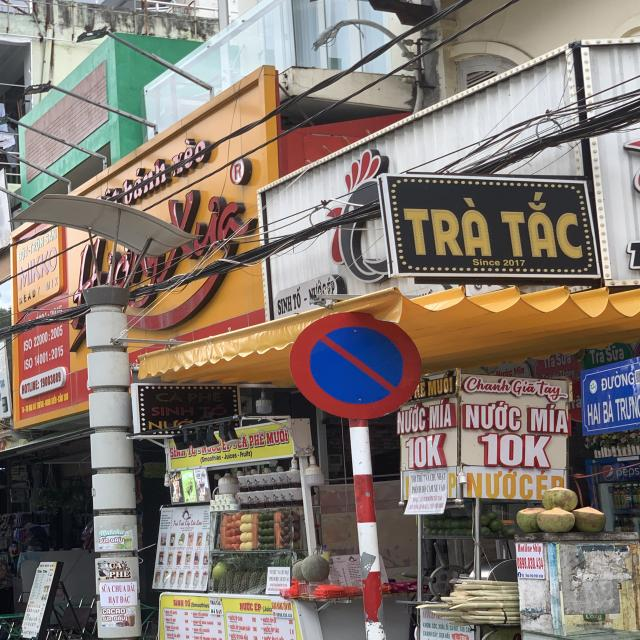Cam_Dau_Xe: (291, 310, 421, 422)
